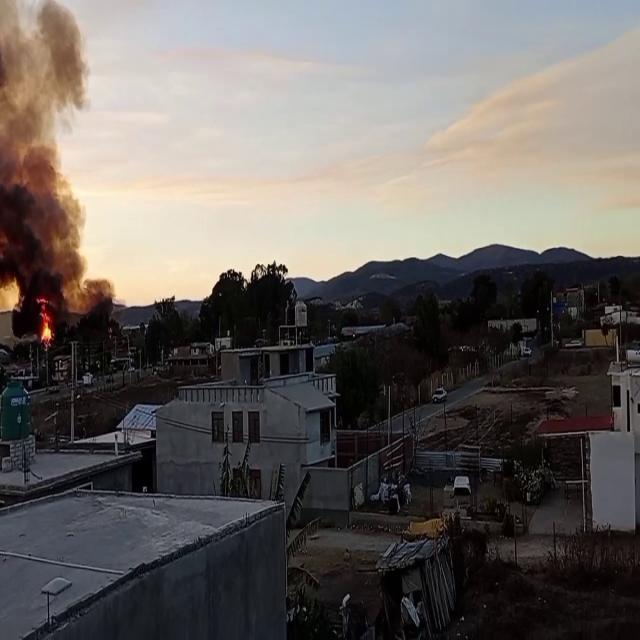Fire: (0, 271, 23, 317), (39, 310, 55, 347)
Smoke: (0, 1, 108, 301)
